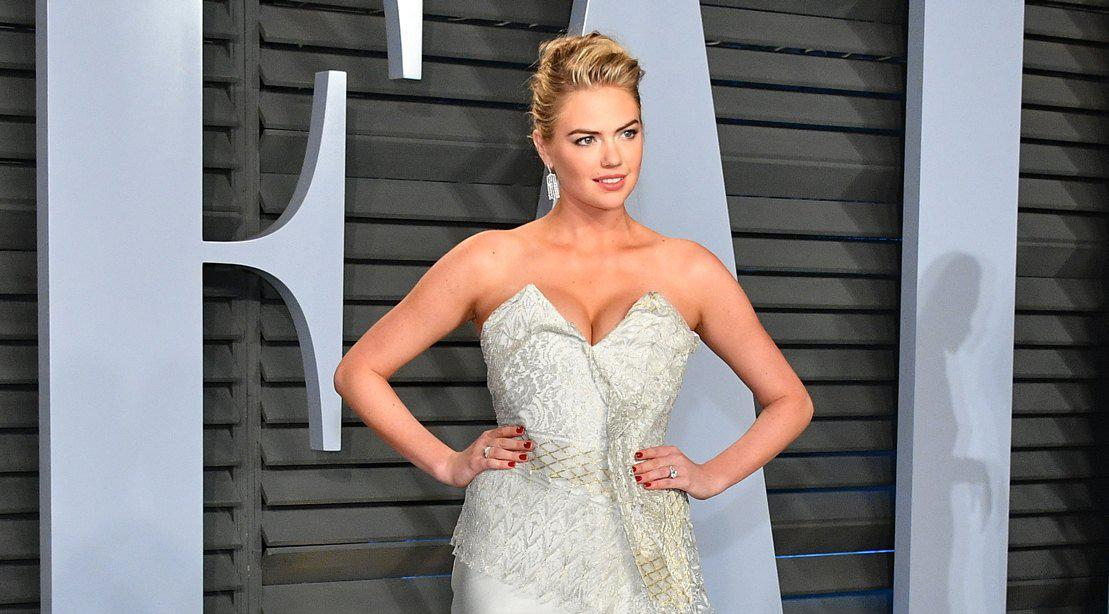Sober: (563, 98, 644, 205)
